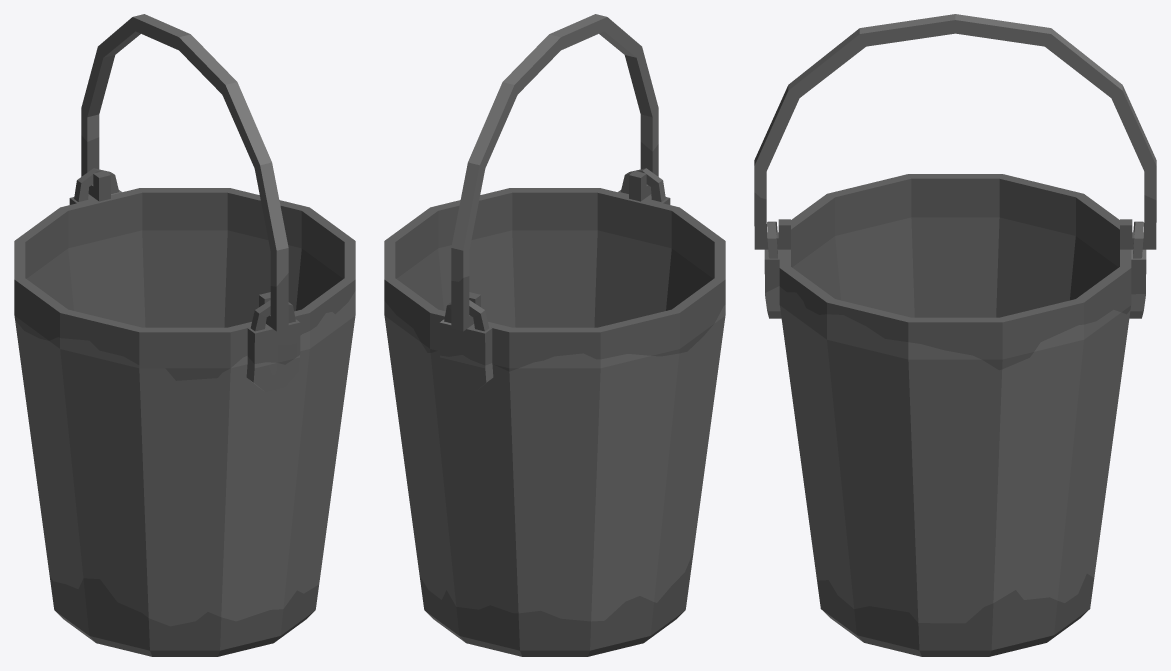
Rendered from Prop_Bucket_01.fbx.
3 renders of one model, left to right at view 1: azimuth 30°, elevation 25°; view 2: azimuth 150°, elevation 25°; view 3: azimuth 270°, elevation 25°, orthographic. The views are drawn at different scales.
Parts seen in each view (by area): view 1: Prop_Bucket_01_LOD0, Prop_Bucket_Handle_01_LOD0; view 2: Prop_Bucket_01_LOD0, Prop_Bucket_Handle_01_LOD0; view 3: Prop_Bucket_01_LOD0, Prop_Bucket_Handle_01_LOD0.
Boxes of the visible parts, <box> form: Prop_Bucket_01_LOD0: <box>14,168,355,656</box>; Prop_Bucket_Handle_01_LOD0: <box>81,14,288,331</box>; Prop_Bucket_01_LOD0: <box>384,168,725,656</box>; Prop_Bucket_Handle_01_LOD0: <box>451,14,658,331</box>; Prop_Bucket_01_LOD0: <box>764,174,1146,656</box>; Prop_Bucket_Handle_01_LOD0: <box>754,14,1156,249</box>.
Size of what is drawn, in the model's own units: 31.14 by 57.42 by 35.66.
